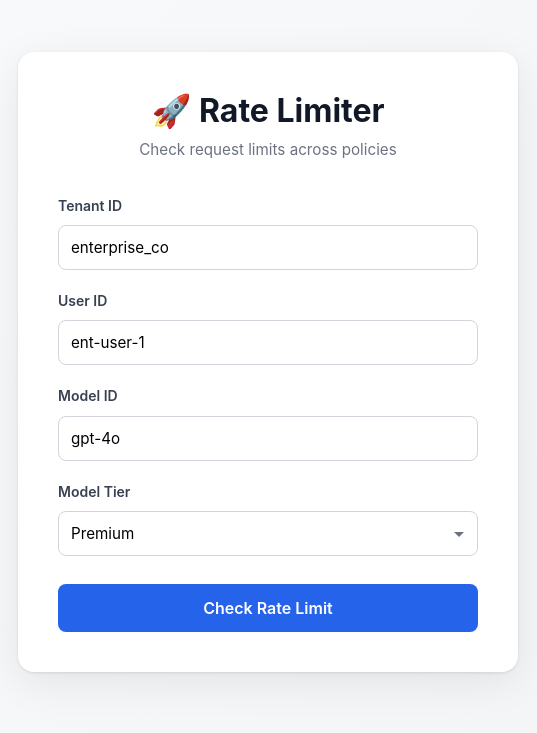
Test case: Rate Limiter App › Error Handling › should display error on network failure
Click the button "Check Rate Limit" at (268, 608), box [58,584,478,632]
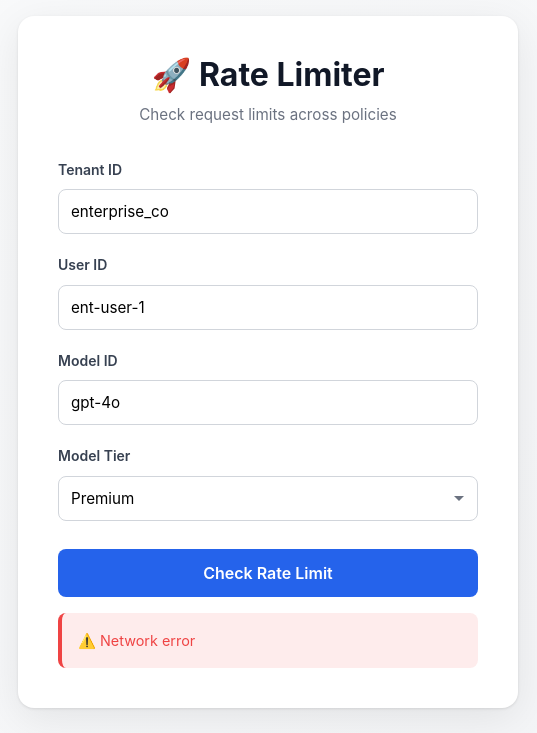
expect the text "Network error" is shown: met, box [100,632,195,649]
